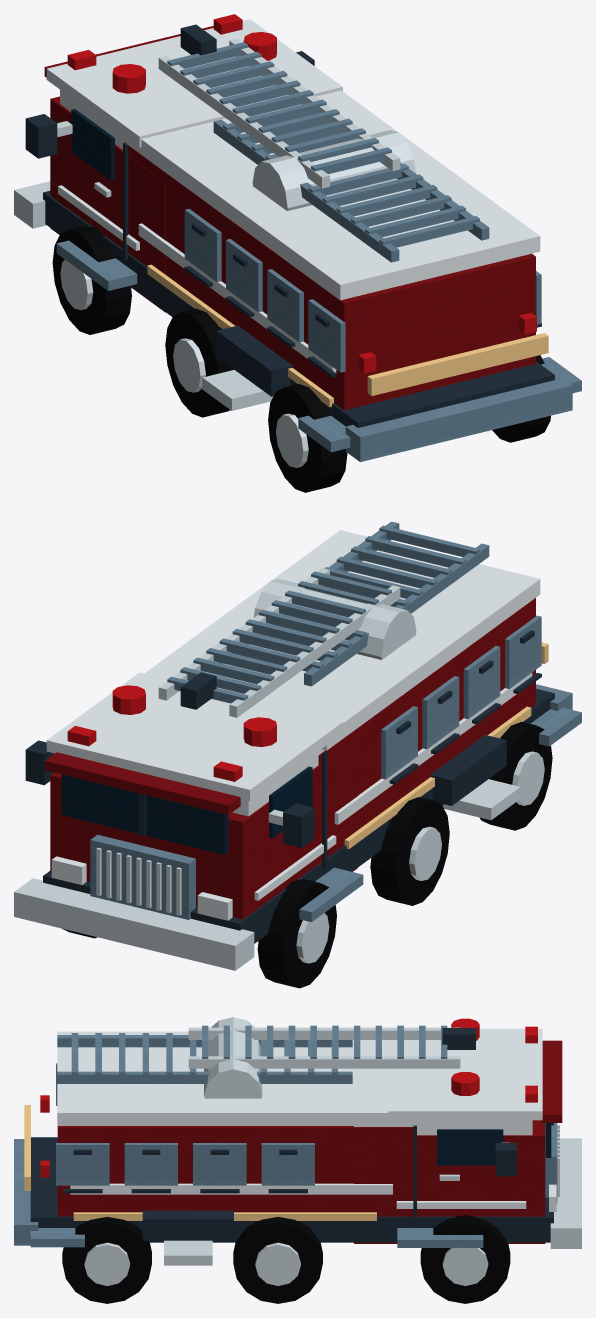
File: ladder-truck.glb
3 renders of one model, top to bottom at view 1: azimuth 30°, elevation 25°; view 2: azimuth 150°, elevation 25°; view 3: azimuth 270°, elevation 25°, orthographic. The views are drawn at different scales.
Visible parts, largest first — view 1: Batch_LadderTruck_ROOT_JD_white, Batch_LadderTruck_ROOT_JD_red, Batch_AerialLadder_Pivot_JD_silver, Batch_LadderTruck_ROOT_JD_silver, Batch_LadderTruck_ROOT_JD_dark, Batch_AerialLadder_Pivot_JD_chrome, Batch_LadderTruck_ROOT_JD_amber, Axle3_L_Tire, Axle1_L_Tire, Batch_LadderTruck_ROOT_JD_chrome, Axle2_L_Tire, Batch_LadderTruck_ROOT_JD_red_bright (+6 smaller); view 2: Batch_LadderTruck_ROOT_JD_white, Batch_LadderTruck_ROOT_JD_red, Batch_AerialLadder_Pivot_JD_silver, Batch_LadderTruck_ROOT_JD_silver, Batch_LadderTruck_ROOT_JD_chrome, Batch_LadderTruck_ROOT_JD_dark, Batch_LadderTruck_ROOT_JD_glass, Batch_AerialLadder_Pivot_JD_chrome, Axle2_L_Tire, Axle1_L_Tire, Axle3_L_Tire, Batch_LadderTruck_ROOT_JD_red_bright (+5 smaller); view 3: Batch_LadderTruck_ROOT_JD_white, Batch_LadderTruck_ROOT_JD_red, Batch_LadderTruck_ROOT_JD_silver, Batch_LadderTruck_ROOT_JD_dark, Batch_AerialLadder_Pivot_JD_silver, Batch_AerialLadder_Pivot_JD_chrome, Axle2_R_Tire, Axle3_R_Tire, Batch_LadderTruck_ROOT_JD_chrome, Axle1_R_Tire, Batch_LadderTruck_ROOT_JD_glass, Batch_LadderTruck_ROOT_JD_amber (+5 smaller).
Boxes of the visible parts, box(x1,y1,x2,y2) form: Batch_LadderTruck_ROOT_JD_white: box(46, 19, 540, 372); Batch_LadderTruck_ROOT_JD_red: box(44, 26, 535, 410); Batch_AerialLadder_Pivot_JD_silver: box(167, 42, 489, 262); Batch_LadderTruck_ROOT_JD_silver: box(56, 208, 581, 461); Batch_LadderTruck_ROOT_JD_dark: box(25, 51, 554, 427); Batch_AerialLadder_Pivot_JD_chrome: box(158, 39, 415, 211); Batch_LadderTruck_ROOT_JD_amber: box(147, 264, 548, 407); Axle3_L_Tire: box(268, 384, 347, 492); Axle1_L_Tire: box(52, 225, 131, 334); Batch_LadderTruck_ROOT_JD_chrome: box(14, 121, 273, 410); Axle2_L_Tire: box(165, 308, 233, 417); Batch_LadderTruck_ROOT_JD_red_bright: box(67, 14, 536, 373); Batch_LadderTruck_ROOT_JD_white: box(46, 530, 540, 920); Batch_LadderTruck_ROOT_JD_red: box(44, 598, 535, 943); Batch_AerialLadder_Pivot_JD_silver: box(167, 521, 489, 703); Batch_LadderTruck_ROOT_JD_silver: box(90, 615, 581, 922); Batch_LadderTruck_ROOT_JD_chrome: box(14, 779, 520, 970); Batch_LadderTruck_ROOT_JD_dark: box(25, 630, 554, 942); Batch_LadderTruck_ROOT_JD_glass: box(61, 766, 312, 854); Batch_AerialLadder_Pivot_JD_chrome: box(158, 568, 416, 717); Axle2_L_Tire: box(370, 797, 449, 905); Axle1_L_Tire: box(257, 879, 336, 988); Axle3_L_Tire: box(480, 721, 552, 830); Batch_LadderTruck_ROOT_JD_red_bright: box(67, 685, 276, 781); Batch_LadderTruck_ROOT_JD_white: box(57, 1028, 556, 1211); Batch_LadderTruck_ROOT_JD_red: box(57, 1040, 562, 1243); Batch_LadderTruck_ROOT_JD_silver: box(14, 1063, 557, 1247); Batch_LadderTruck_ROOT_JD_dark: box(30, 1123, 553, 1242); Batch_AerialLadder_Pivot_JD_silver: box(57, 1025, 447, 1083); Batch_AerialLadder_Pivot_JD_chrome: box(188, 1017, 460, 1098); Axle2_R_Tire: box(233, 1217, 322, 1303); Axle3_R_Tire: box(62, 1217, 151, 1303); Batch_LadderTruck_ROOT_JD_chrome: box(164, 1124, 581, 1265); Axle1_R_Tire: box(420, 1215, 510, 1303); Batch_LadderTruck_ROOT_JD_glass: box(437, 1123, 551, 1165); Batch_LadderTruck_ROOT_JD_amber: box(24, 1105, 376, 1220).
Size of the model in its own units: 3.52 by 3.17 by 7.22.
9 materials, 5 textured.
